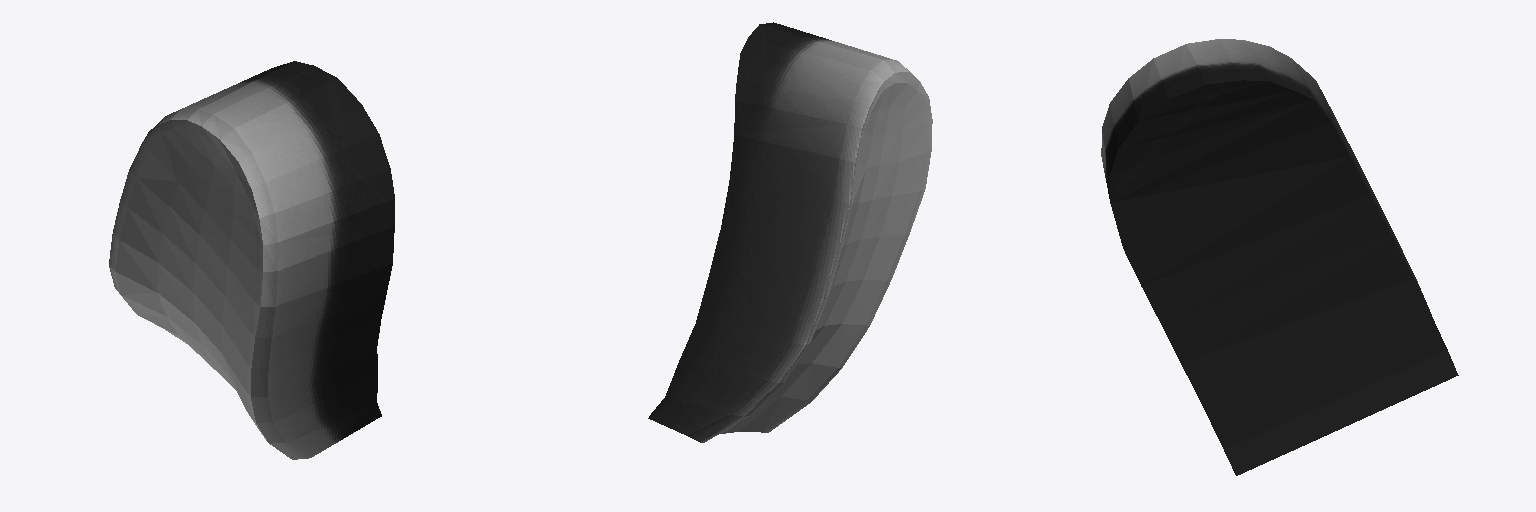
3 views of the same model, side by side, from view 1: azimuth 30°, elevation 25°; view 2: azimuth 150°, elevation 25°; view 3: azimuth 270°, elevation 25° (orthographic).
Parts seen in each view (by area): view 1: oculus_quest2_controller_right_grip; view 2: oculus_quest2_controller_right_grip; view 3: oculus_quest2_controller_right_grip.
Boxes of the visible parts, <box> form: oculus_quest2_controller_right_grip: <box>109,61,394,459</box>; oculus_quest2_controller_right_grip: <box>648,22,932,442</box>; oculus_quest2_controller_right_grip: <box>1101,39,1458,475</box>.
Size of the model in its own units: 0.0146 by 0.026 by 0.0216.
Materials: 1 (1 with a texture image).